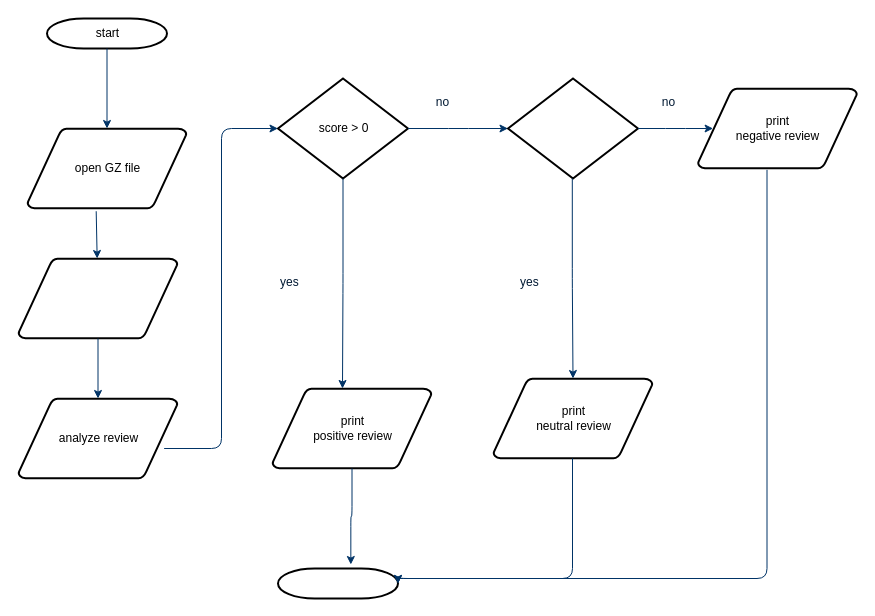
The diagram is 875 pixels wide and 616 high, and some of its shapes have lost their labels. The box of each missing label's shape, as (x1, y1, x2, y2) in pixels:
end: (276, 567, 398, 599)
read JSON file: (17, 257, 178, 339)
score = 0: (506, 77, 638, 179)
